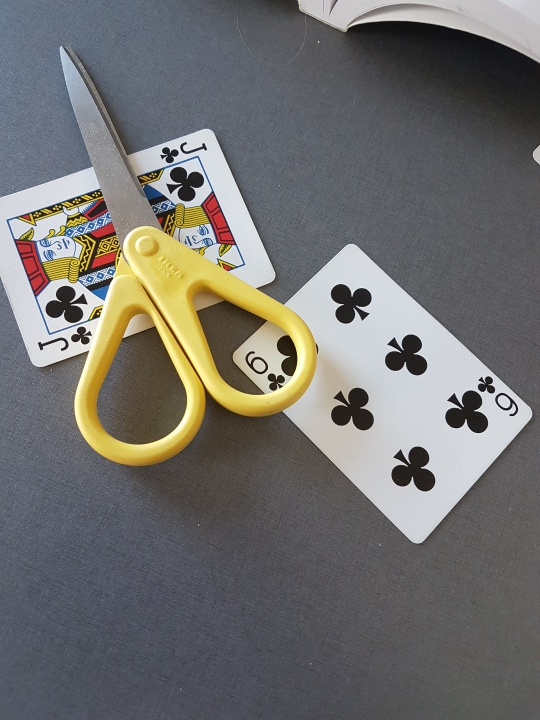6: (228, 238, 536, 571)
jack: (1, 111, 277, 370)
